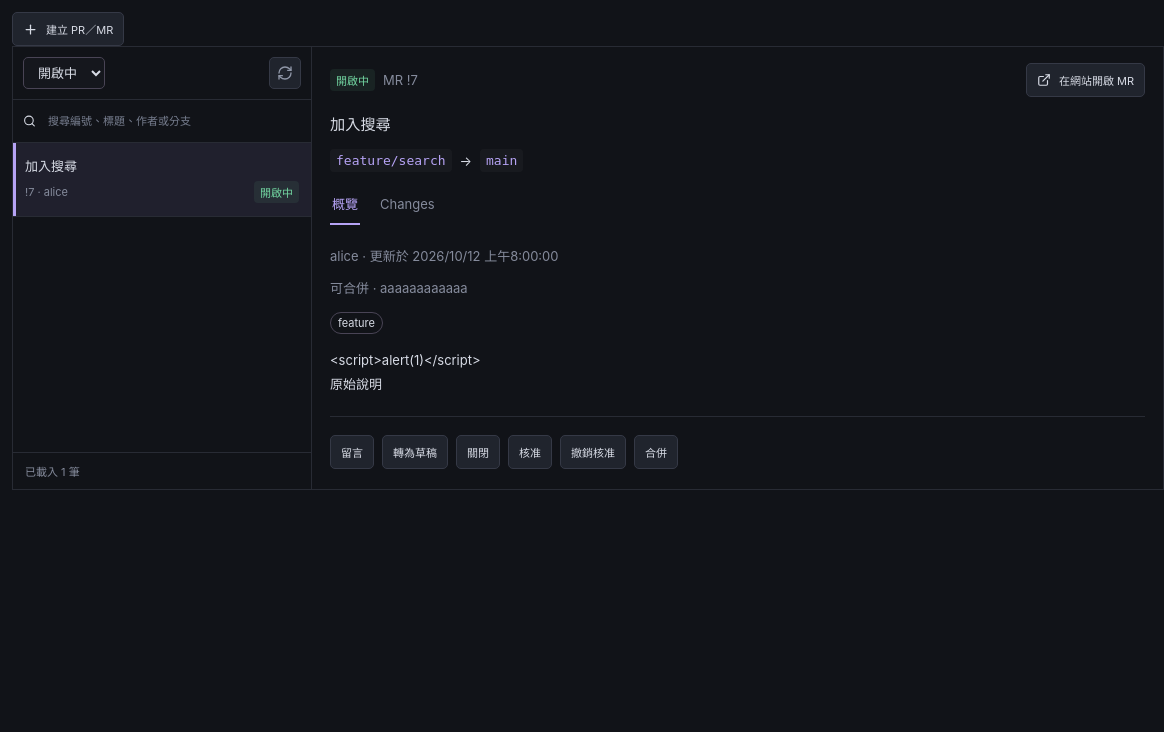
Test: GitLab 提供撤銷核准，草稿禁止合併，最新資料失敗時禁止操作
Expected: the button "撤銷核准" is shown, x1=560 y1=435 x2=626 y2=469
What coordinates should you click on to do the following:
click the button named "重新整理 PR／MR"
I would click on:
 (285, 73)
Its box is x1=269 y1=57 x2=301 y2=89.
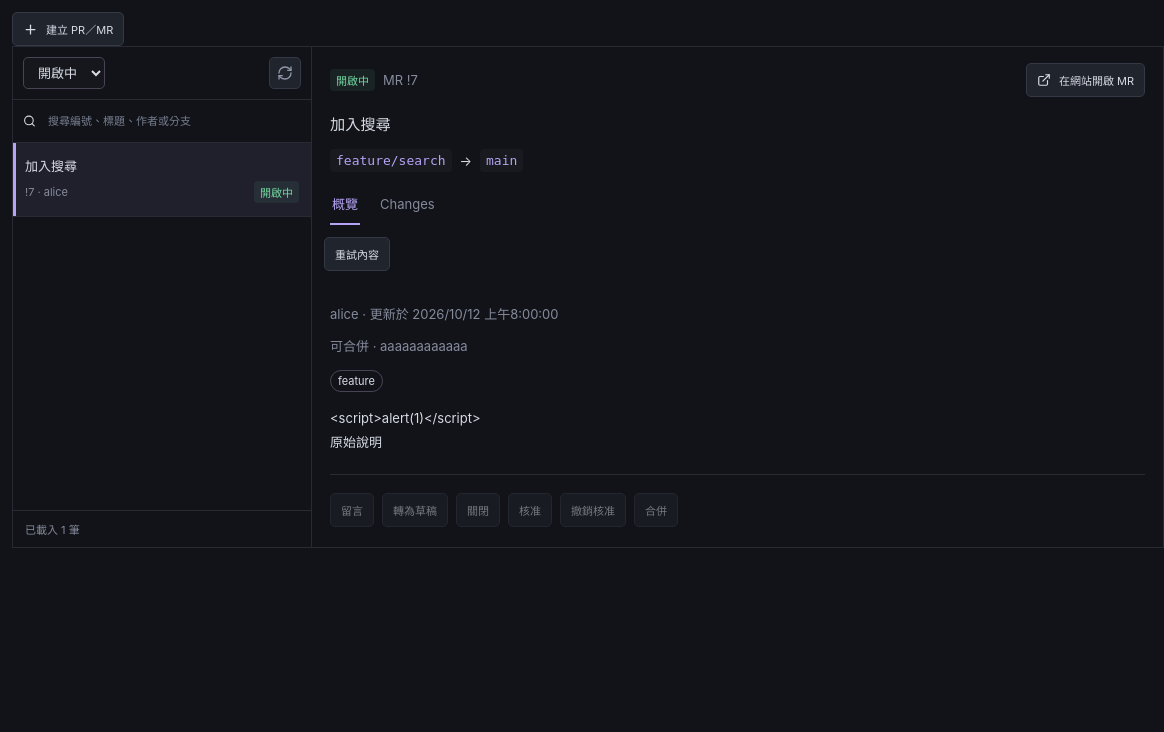
Now the button "重試內容" is shown, box x1=324 y1=237 x2=390 y2=271
Now the button "合併" is disabled, box x1=634 y1=493 x2=678 y2=527
